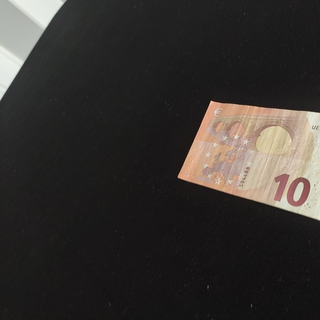10EUROBack: (176, 100, 320, 232)
